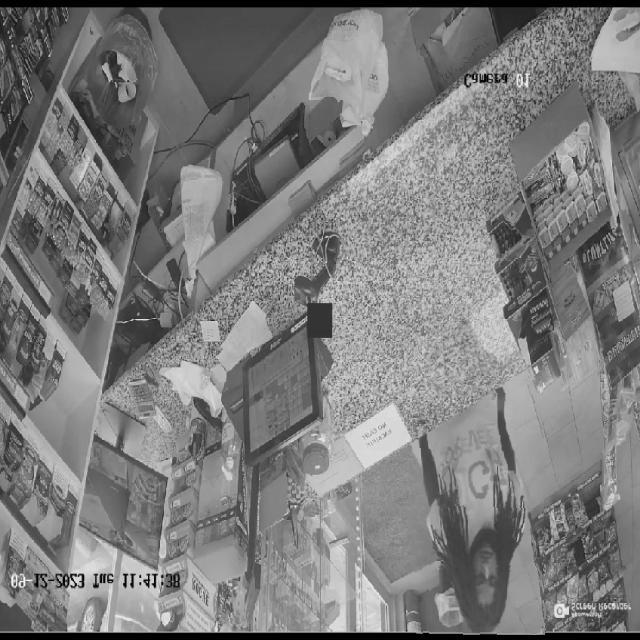Normal: (412, 376, 545, 635)
